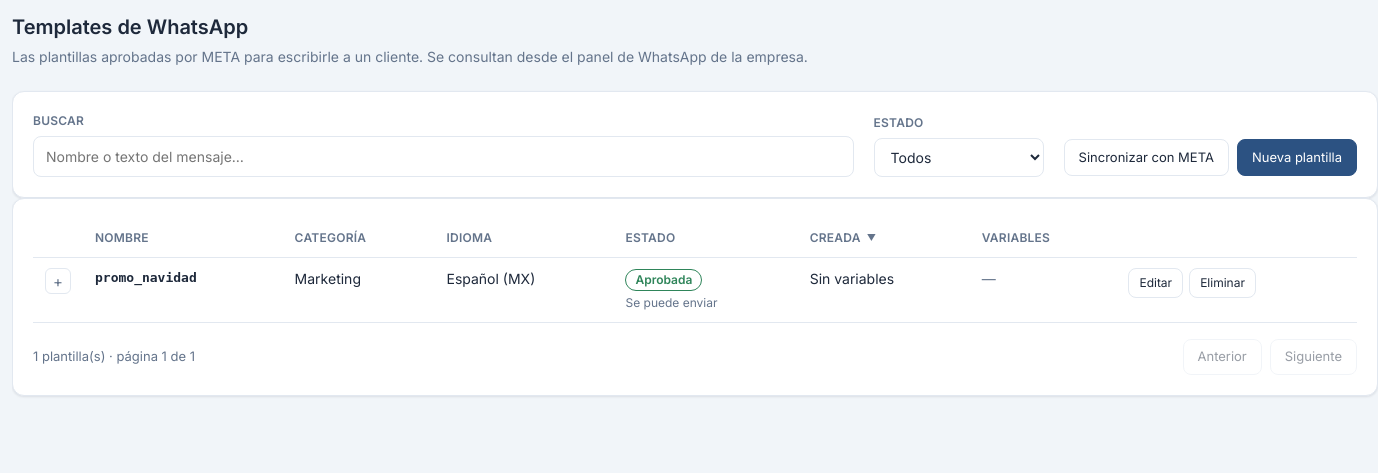
Scenario: PlantillasPanel — lo que META no deja editar › si la política lo bloquea, no se abre el formulario
The image size is (1378, 473).
What coordinates should you click on to do the following:
click the button "Editar"
I would click on:
 (1156, 283)
Its box is [1128,268,1183,298].
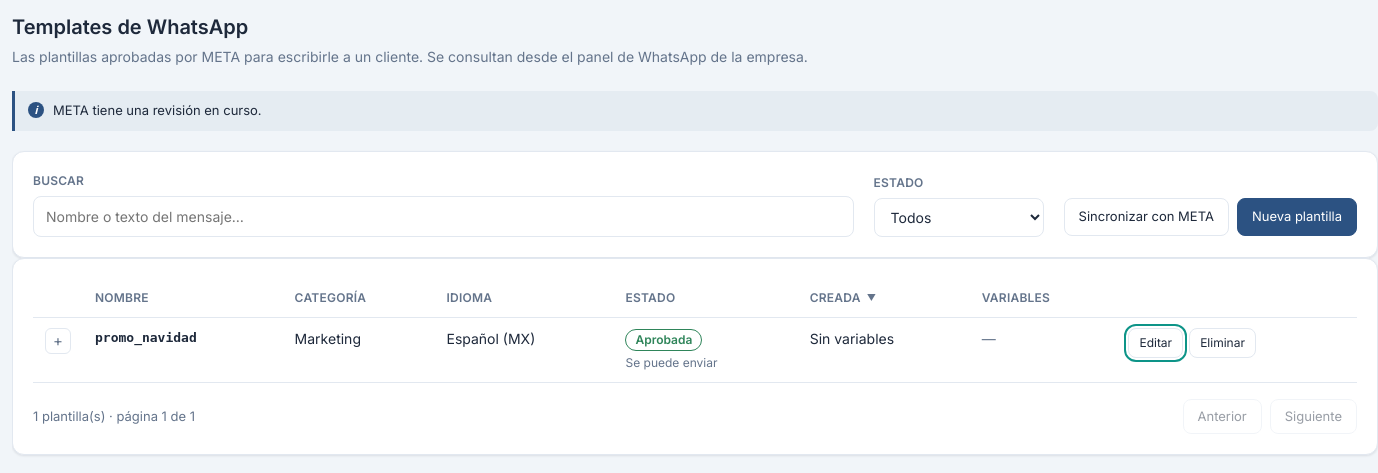
Expected: the text "META tiene una revisión en curso." is shown, [12,91,1377,130]
